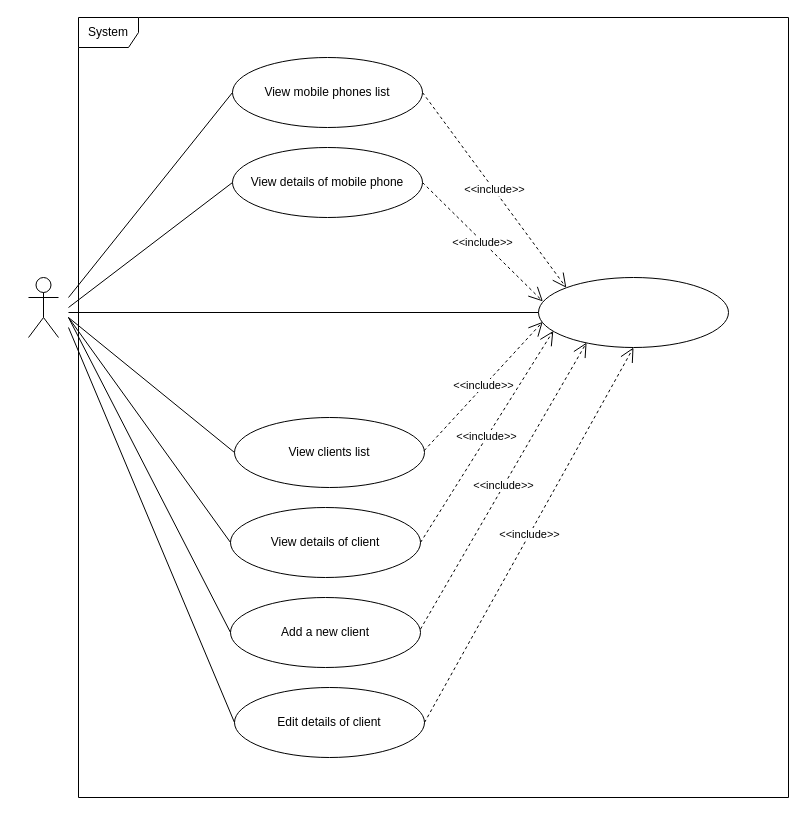
Image size: 806x815. Some labels were removed from this diagram. Each missing label, with the centre of its shape:
"Authentification" goes at (x=633, y=312).
"Customer" goes at (x=43, y=307).
